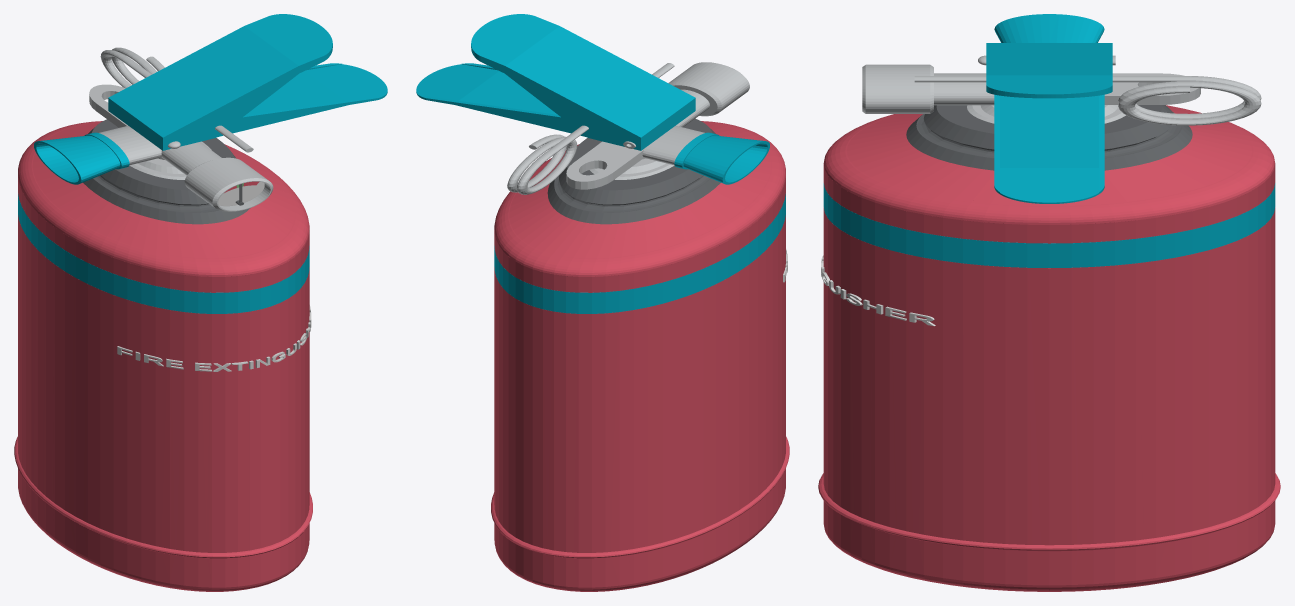
File: Frantic Jarv-Bombul.glb
The picture shows the model from 3 angles, left to right: view 1: azimuth 30°, elevation 25°; view 2: azimuth 150°, elevation 25°; view 3: azimuth 270°, elevation 25°; orthographic projection. The views are drawn at different scales.
Visible parts, largest first — view 1: Mesh_Mesh_head_geo.001_lambert2SG.001; view 2: Mesh_Mesh_head_geo.001_lambert2SG.001; view 3: Mesh_Mesh_head_geo.001_lambert2SG.001.
Part boxes in pixels (x1,y1,x2,y2): Mesh_Mesh_head_geo.001_lambert2SG.001: (14,14,387,591); Mesh_Mesh_head_geo.001_lambert2SG.001: (416,14,789,591); Mesh_Mesh_head_geo.001_lambert2SG.001: (818,14,1280,591).
Size of the model in its own units: 17 by 23 by 18.
